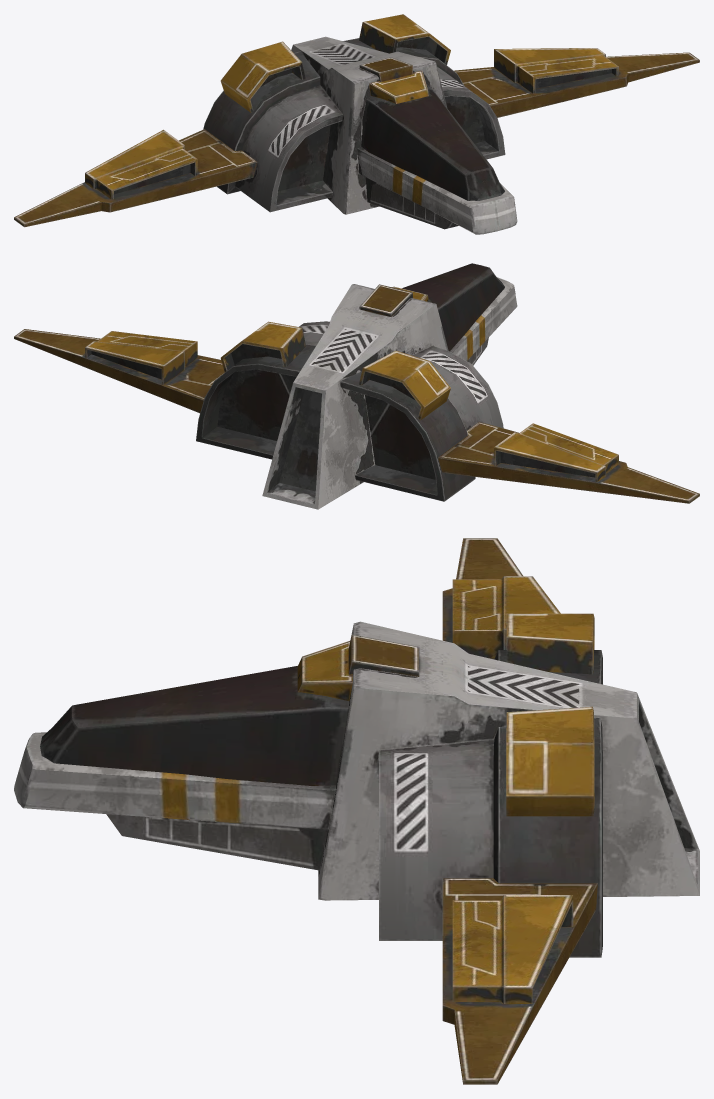
Rendered from Bob.05d518697c.glb.
3 views of the same model, one above another, from view 1: azimuth 30°, elevation 25°; view 2: azimuth 150°, elevation 25°; view 3: azimuth 270°, elevation 25° (orthographic). The views are drawn at different scales.
Parts seen in each view (by area): view 1: Bob; view 2: Bob; view 3: Bob.
Part boxes in pixels (x1,y1,x2,y2): Bob: (14, 14, 699, 234); Bob: (14, 263, 699, 509); Bob: (14, 538, 699, 1084).
Bounding box in the file's own units: 10.5 × 2.03 × 5.61.
Materials: 1 (1 with a texture image).
